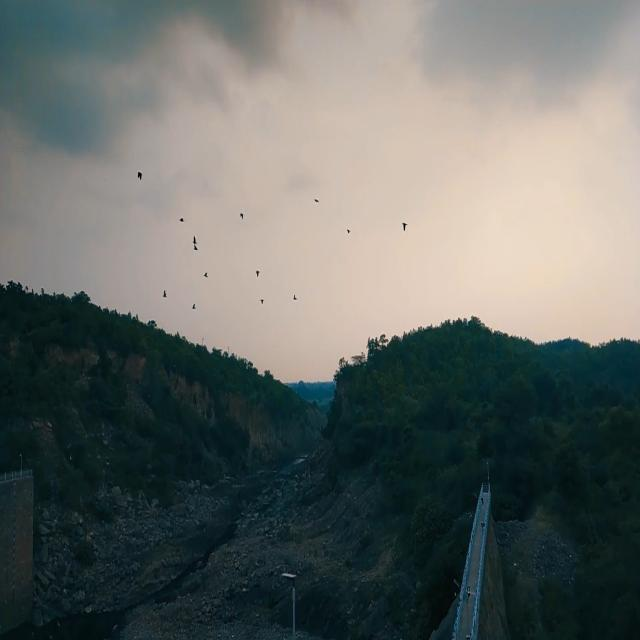bird: (400, 219, 409, 233), (136, 168, 142, 182), (254, 268, 260, 278), (162, 289, 168, 298), (192, 234, 197, 244), (313, 197, 320, 204), (203, 270, 209, 278), (292, 293, 298, 301), (179, 216, 185, 223), (239, 212, 244, 220), (191, 302, 196, 310), (192, 245, 198, 251), (260, 298, 264, 306), (346, 227, 351, 233)
